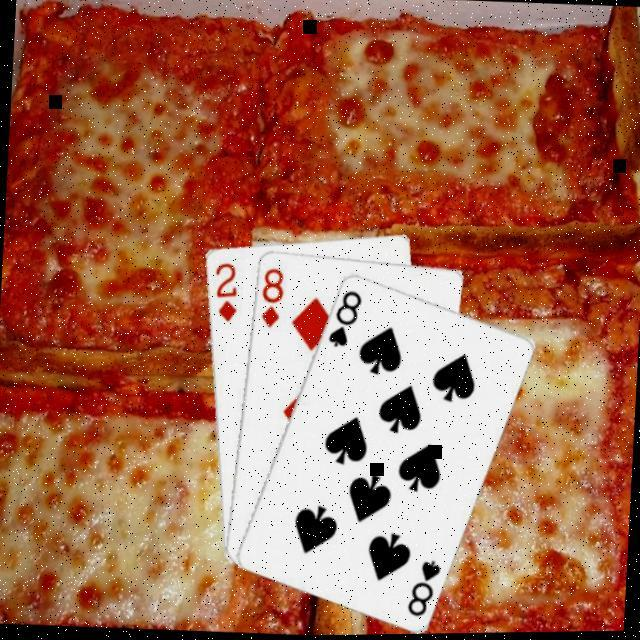2D: (209, 259, 241, 324)
8D: (257, 264, 287, 330)
8S: (324, 285, 364, 351), (403, 556, 443, 620)
